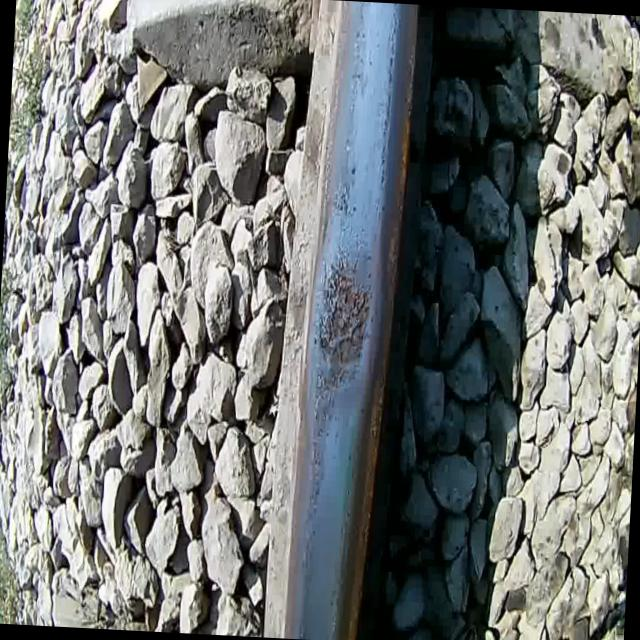Spallings: (313, 250, 374, 372)
Squats: (304, 228, 382, 423)
